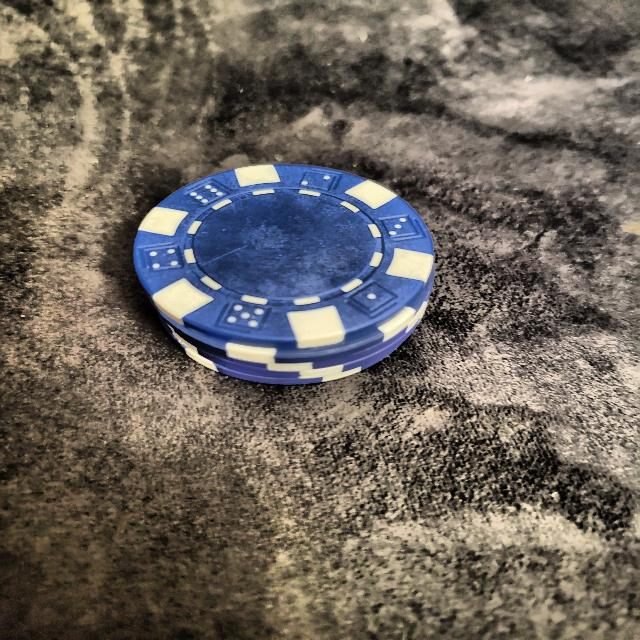Chip: (98, 144, 494, 399)
